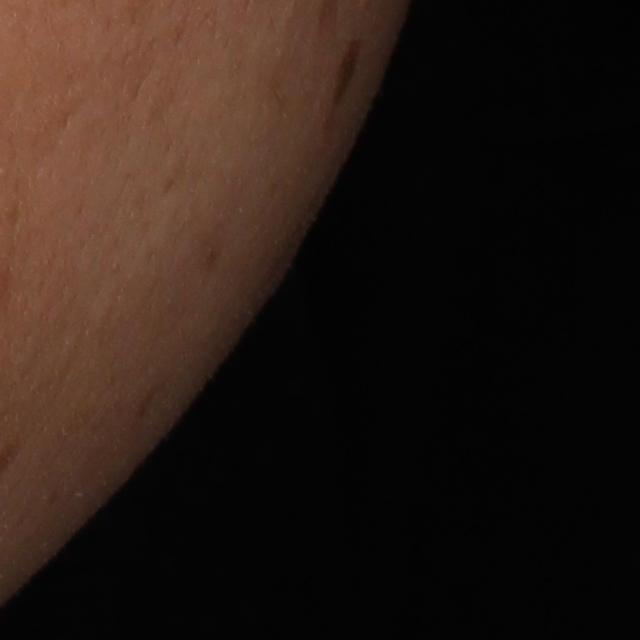nevus: (334, 30, 362, 107)
